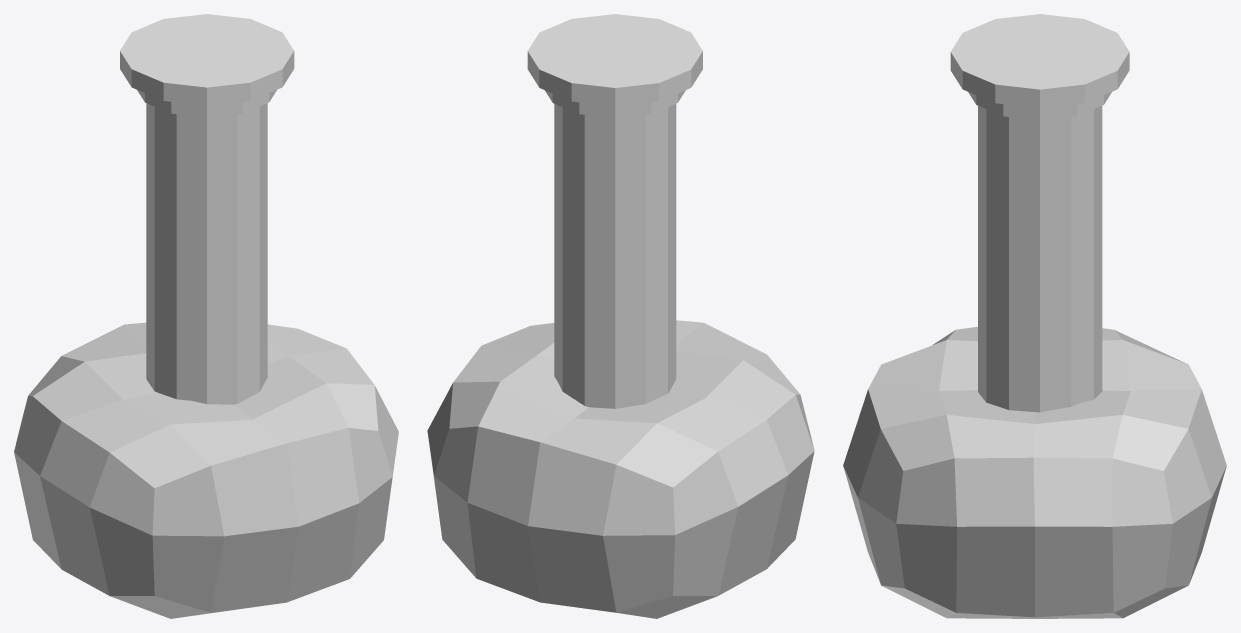
File: Pilar_Boton.fbx
The picture shows the model from 3 angles, left to right: view 1: azimuth 30°, elevation 25°; view 2: azimuth 150°, elevation 25°; view 3: azimuth 270°, elevation 25°; orthographic projection. The views are drawn at different scales.
Visible parts, largest first — view 1: NubePilarBaseBoton; view 2: NubePilarBaseBoton; view 3: NubePilarBaseBoton.
Part boxes in pixels (box(x1,y1,x2,y2)): NubePilarBaseBoton: box(14, 14, 398, 618); NubePilarBaseBoton: box(427, 14, 814, 618); NubePilarBaseBoton: box(843, 14, 1226, 618).
Size of the model in its own units: 1132 by 1668 by 1097.
